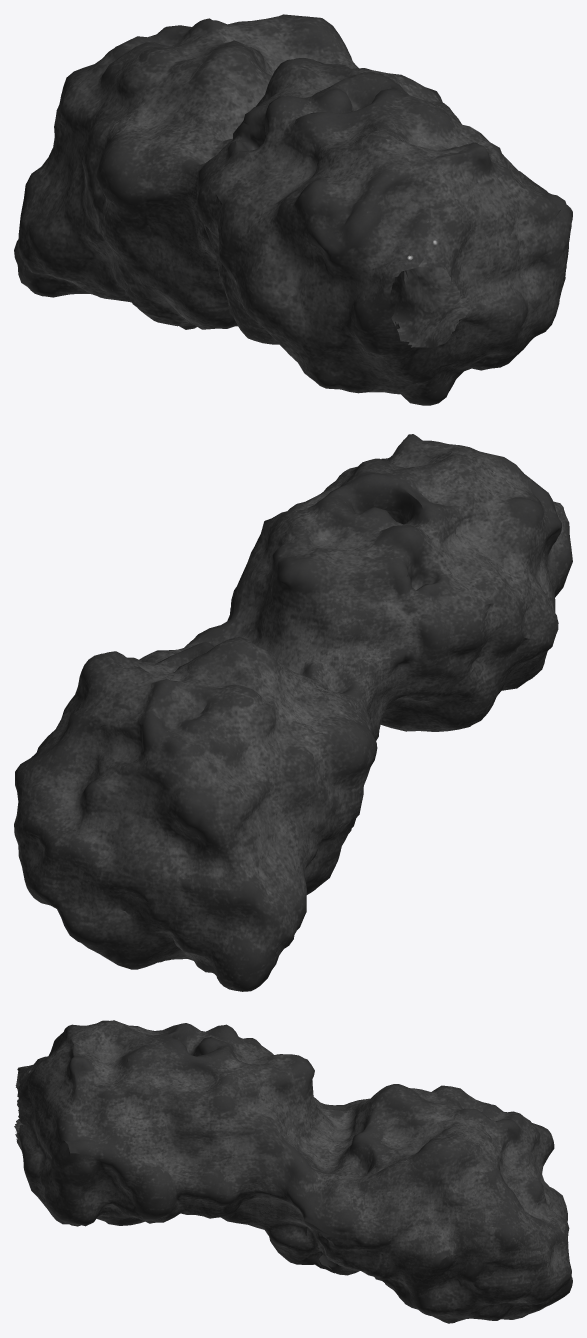
The model's file is diorama.glb.
3 views of the same model, one above another, from view 1: azimuth 30°, elevation 25°; view 2: azimuth 150°, elevation 25°; view 3: azimuth 270°, elevation 25° (orthographic). The views are drawn at different scales.
Parts seen in each view (by area): view 1: Object_2; view 2: Object_2; view 3: Object_2.
Boxes of the visible parts, <box> form: Object_2: <box>14,14,572,405</box>; Object_2: <box>14,434,572,991</box>; Object_2: <box>14,1020,572,1323</box>.
Bounding box in the file's own units: 3 × 3.11 × 5.85.
1 material, 1 textured.
